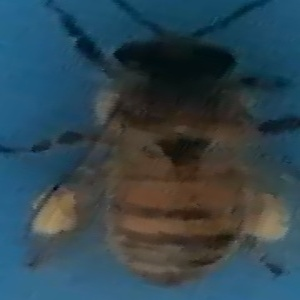bee: (35, 1, 300, 283)
